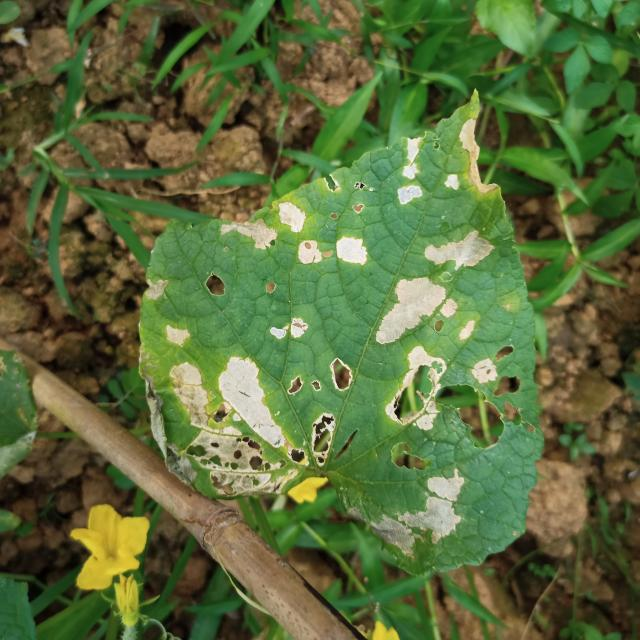disease_cucumber: (201, 104, 535, 344), (138, 270, 356, 504), (346, 337, 542, 569)
